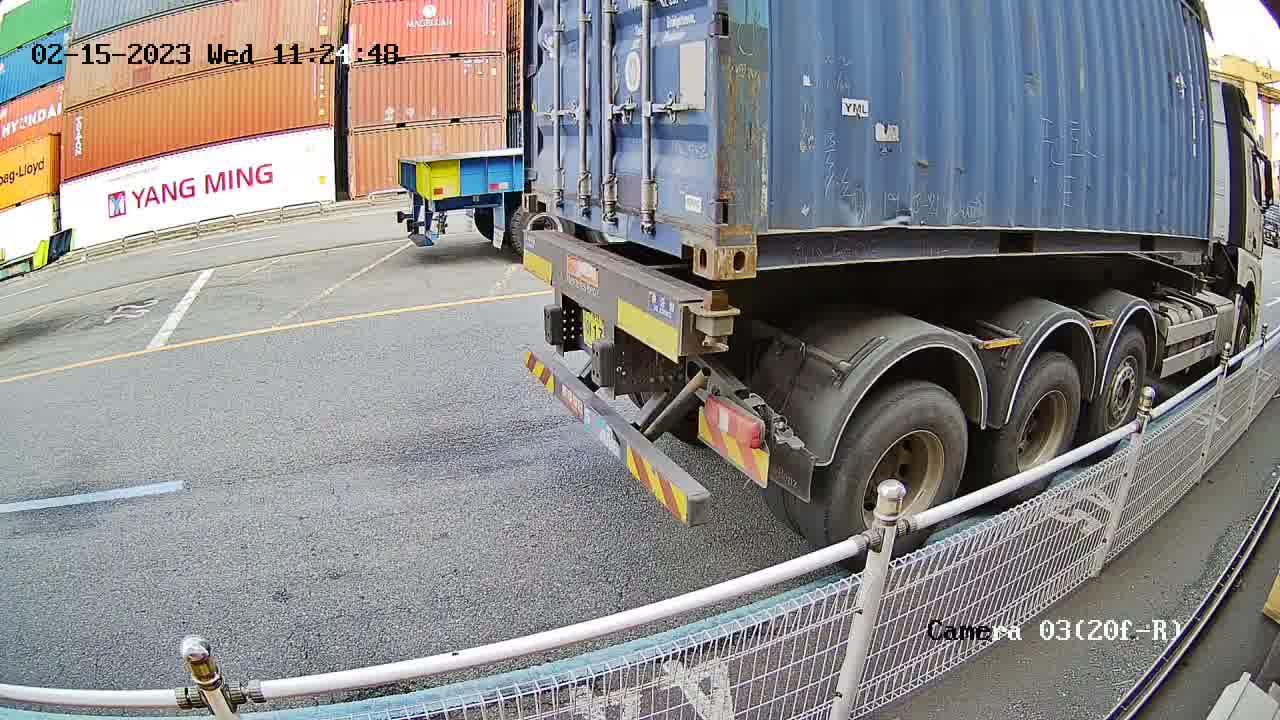Chassis: (524, 230, 695, 357)
Cone: (692, 291, 740, 349)
Hole_L: (714, 196, 799, 284), (518, 159, 560, 215)
Hole_R: (655, 191, 714, 277)
Tire: (824, 386, 970, 542), (1002, 362, 1083, 478), (1092, 337, 1146, 440)
